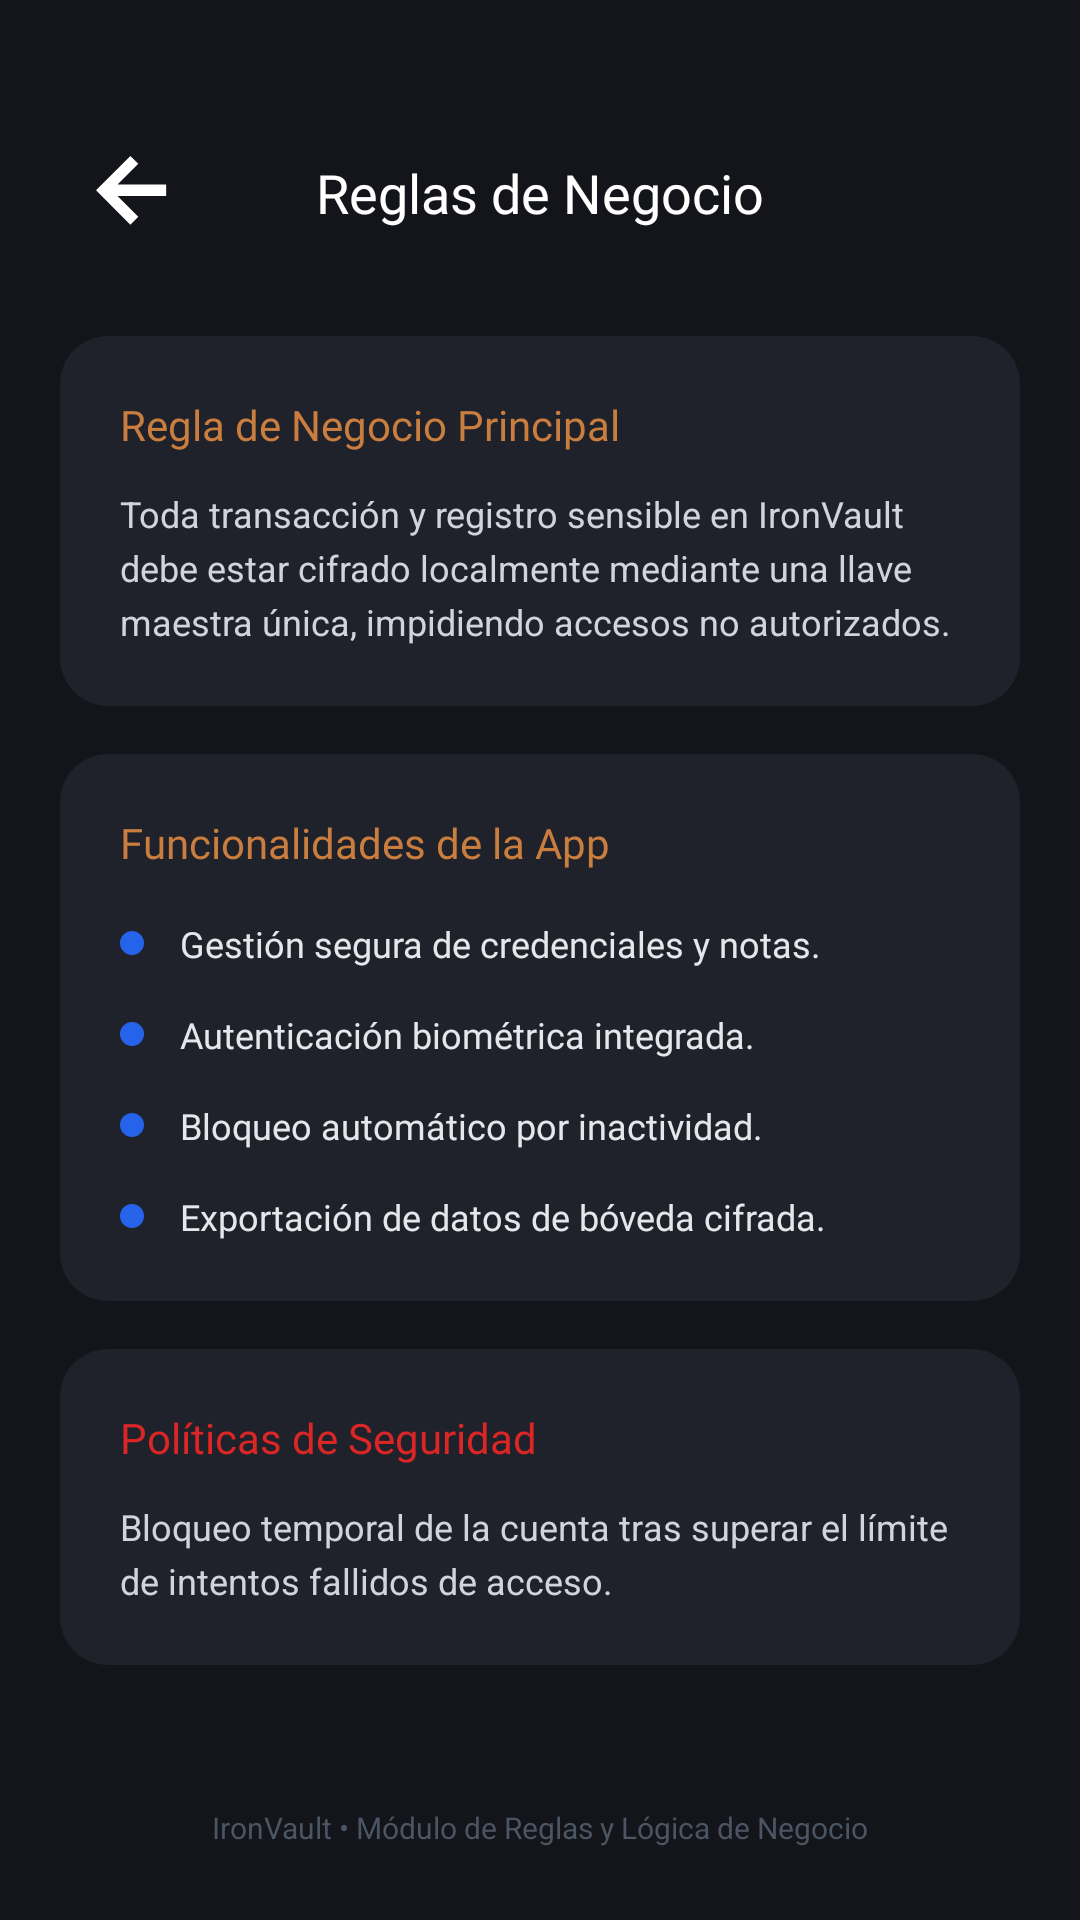

Icon bounding boxes for this 1080px x 1920px phone screenshot, format (x1, y1, x2, y2):
Volver: (96, 156, 167, 225)
